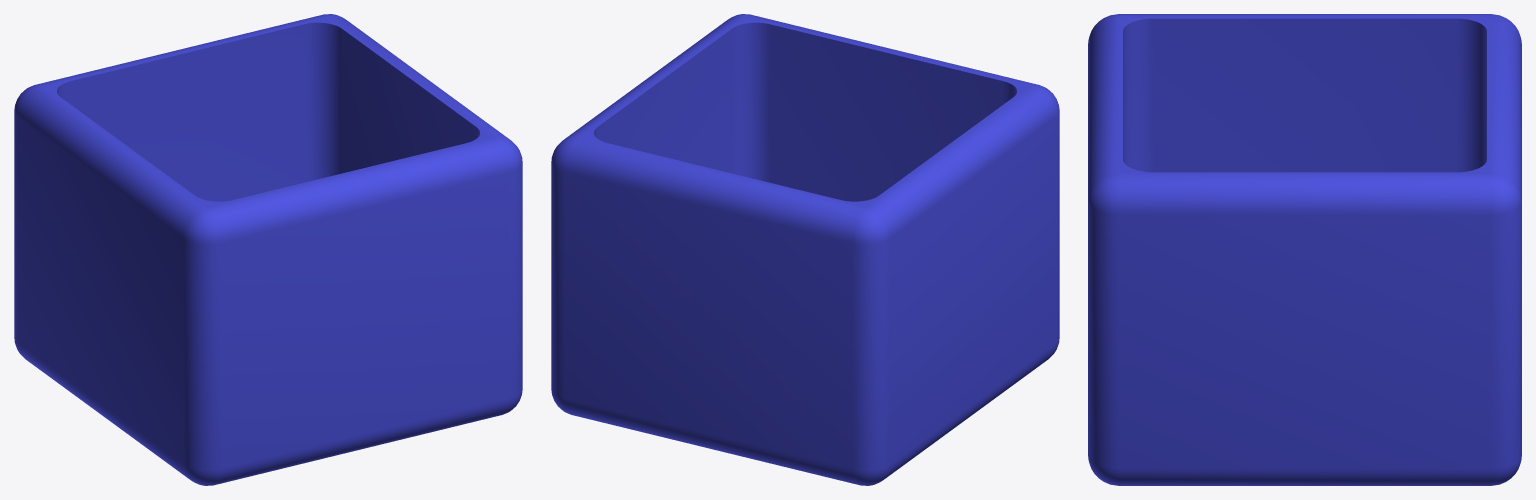
Rendered from misc_05.glb.
The picture shows the model from 3 angles, left to right: view 1: azimuth 30°, elevation 25°; view 2: azimuth 150°, elevation 25°; view 3: azimuth 270°, elevation 25°; orthographic projection. The views are drawn at different scales.
Parts seen in each view (by area): view 1: base; view 2: base; view 3: base.
Part boxes in pixels (x1,y1,x2,y2): base: (14,14,522,485); base: (551,14,1059,485); base: (1088,14,1521,485).
Bounding box in the file's own units: 1.12 × 0.88 × 1.12.
